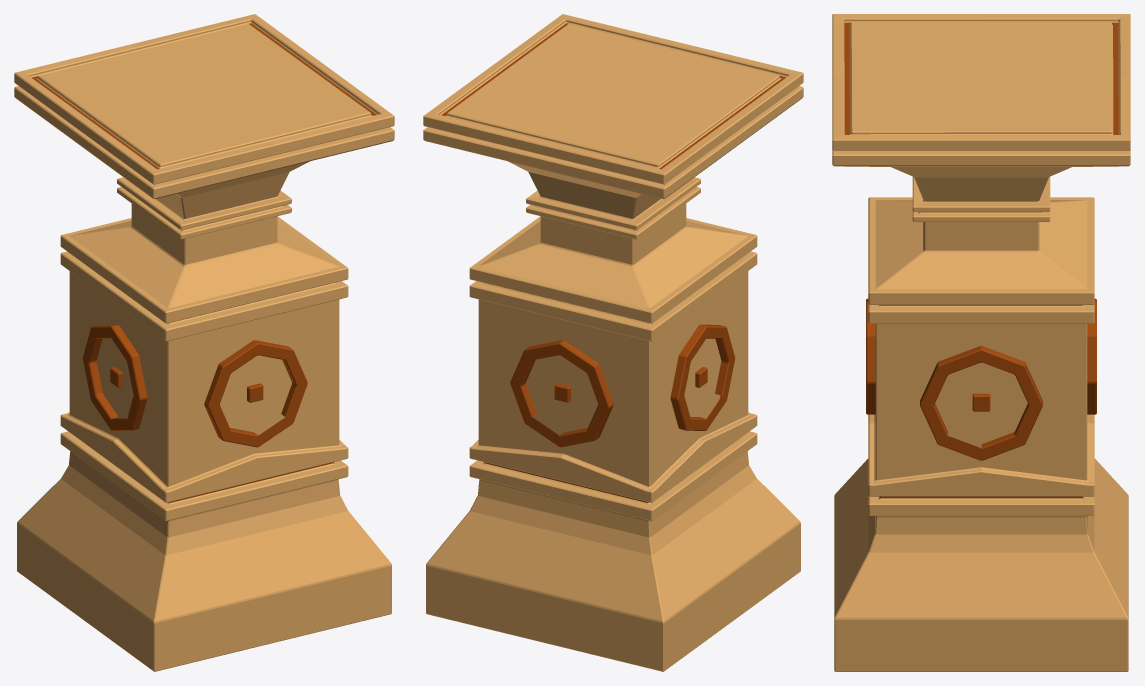
File: Pedestal.fbx
3 views of the same model, side by side, from view 1: azimuth 30°, elevation 25°; view 2: azimuth 150°, elevation 25°; view 3: azimuth 270°, elevation 25° (orthographic). The views are drawn at different scales.
Parts seen in each view (by area): view 1: Pedestal; view 2: Pedestal; view 3: Pedestal.
Boxes of the visible parts, left/top/right/bottom form: Pedestal: left=14, top=14, right=394, bottom=671; Pedestal: left=423, top=14, right=803, bottom=671; Pedestal: left=832, top=14, right=1130, bottom=671.
Bounding box in the file's own units: 81.12 × 160 × 81.12.
